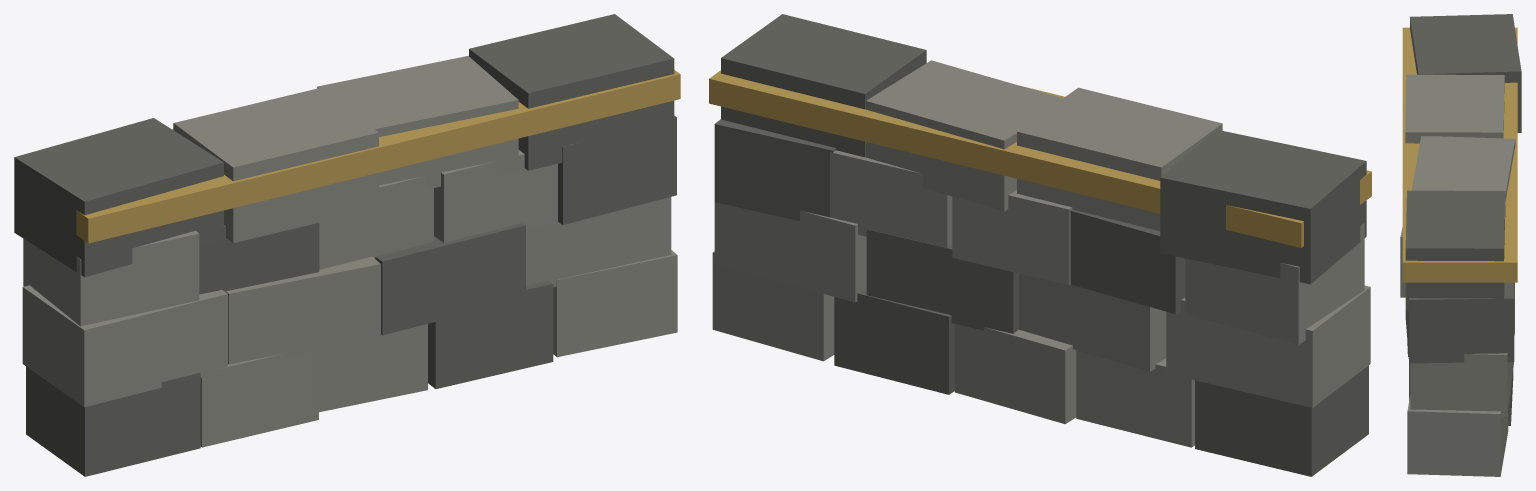
File: prop_dolddam.obj
3 renders of one model, left to right at view 1: azimuth 30°, elevation 25°; view 2: azimuth 150°, elevation 25°; view 3: azimuth 270°, elevation 25°, orthographic. The views are drawn at different scales.
Visible parts, largest first — view 1: prop_dolddam_0_1, prop_dolddam_0_0, prop_dolddam_0_2; view 2: prop_dolddam_0_1, prop_dolddam_0_0, prop_dolddam_0_2; view 3: prop_dolddam_0_1, prop_dolddam_0_0, prop_dolddam_0_2.
Part boxes in pixels (x1,y1,x2,y2): prop_dolddam_0_1: (22,56,677,447); prop_dolddam_0_0: (14,14,676,476); prop_dolddam_0_2: (76,70,680,243); prop_dolddam_0_1: (712,60,1370,447); prop_dolddam_0_0: (714,14,1368,476); prop_dolddam_0_2: (709,70,1371,247); prop_dolddam_0_1: (1400,74,1515,476); prop_dolddam_0_0: (1405,14,1521,425); prop_dolddam_0_2: (1402,27,1517,282).
Bounding box in the file's own units: 3.07 × 1.33 × 0.6531.
